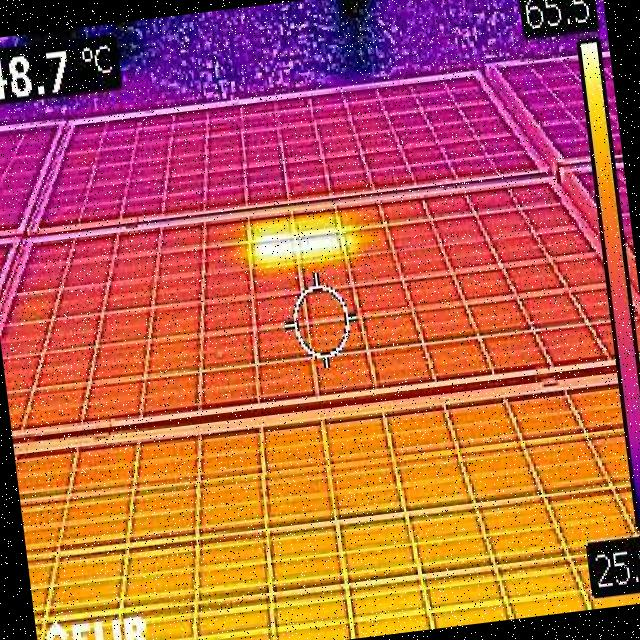Hotspot: (254, 232, 296, 266), (300, 228, 342, 261)
